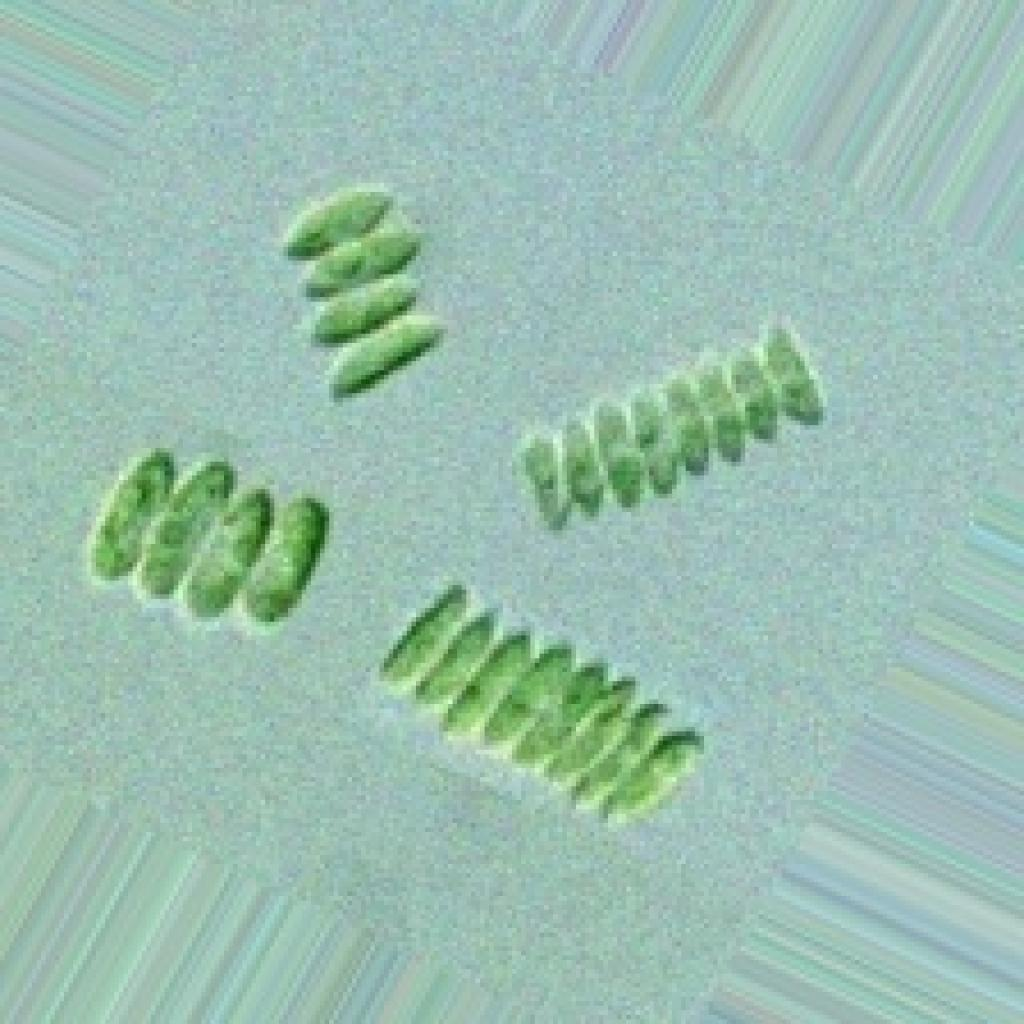Microalgae: (385, 546, 711, 846), (526, 305, 856, 549), (60, 407, 345, 656), (242, 133, 473, 422)
